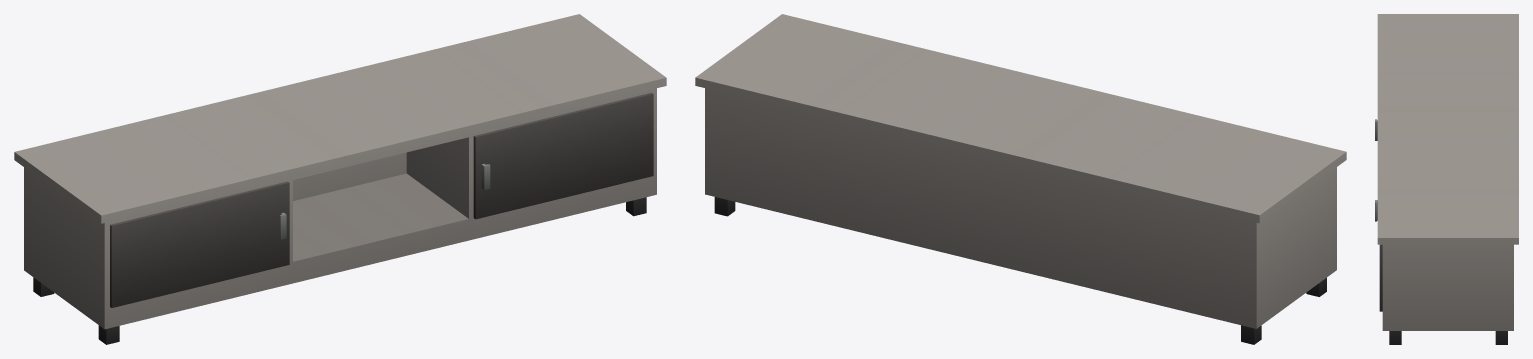
The model's file is SideboardCabinet_A_GreyBlack.fbx.
The picture shows the model from 3 angles, left to right: view 1: azimuth 30°, elevation 25°; view 2: azimuth 150°, elevation 25°; view 3: azimuth 270°, elevation 25°; orthographic projection. The views are drawn at different scales.
Parts seen in each view (by area): view 1: SideboardCabinet_A_GreyBlack; view 2: SideboardCabinet_A_GreyBlack; view 3: SideboardCabinet_A_GreyBlack.
Boxes of the visible parts, x1,y1,x2,y2 form: SideboardCabinet_A_GreyBlack: [14, 14, 666, 344]; SideboardCabinet_A_GreyBlack: [695, 14, 1346, 344]; SideboardCabinet_A_GreyBlack: [1375, 14, 1518, 344].
Bounding box in the file's own units: 300 × 69.86 × 81.41.
